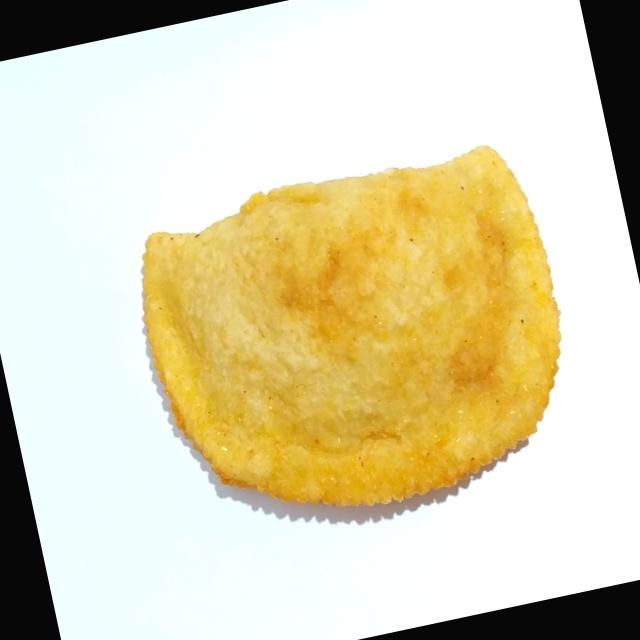Pastel_Mandio: (102, 118, 600, 574)
